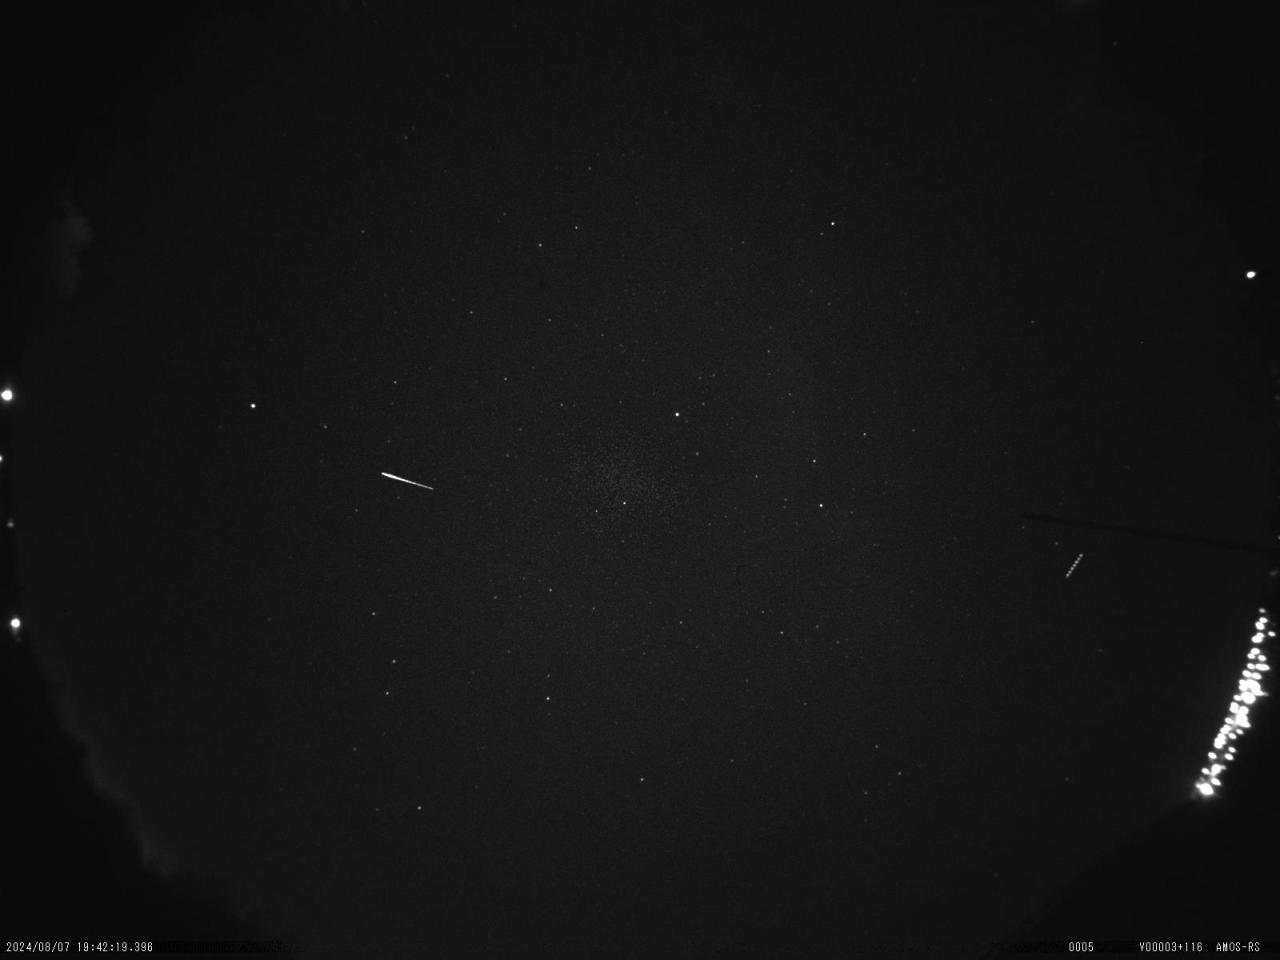Meteor: (379, 469, 433, 492)
